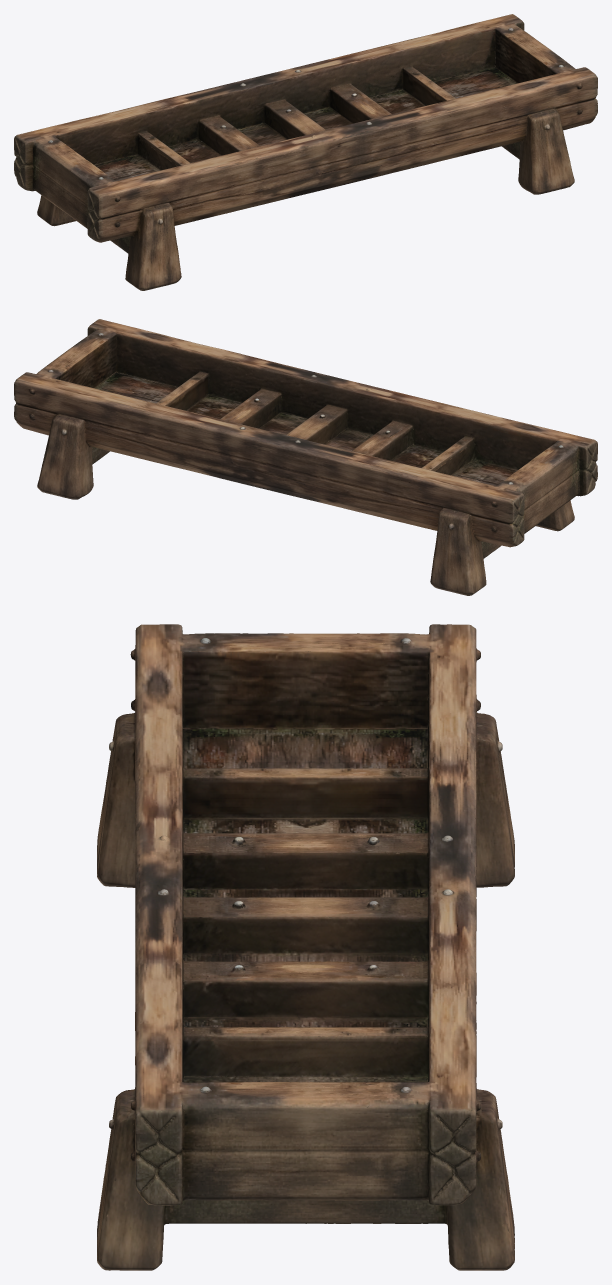
The model's file is o30_ahsap_yalak.glb.
3 views of the same model, one above another, from view 1: azimuth 30°, elevation 25°; view 2: azimuth 150°, elevation 25°; view 3: azimuth 270°, elevation 25° (orthographic). The views are drawn at different scales.
Bounding box in the file's own units: 2 × 0.3791 × 0.725.
1 material, 1 textured.
